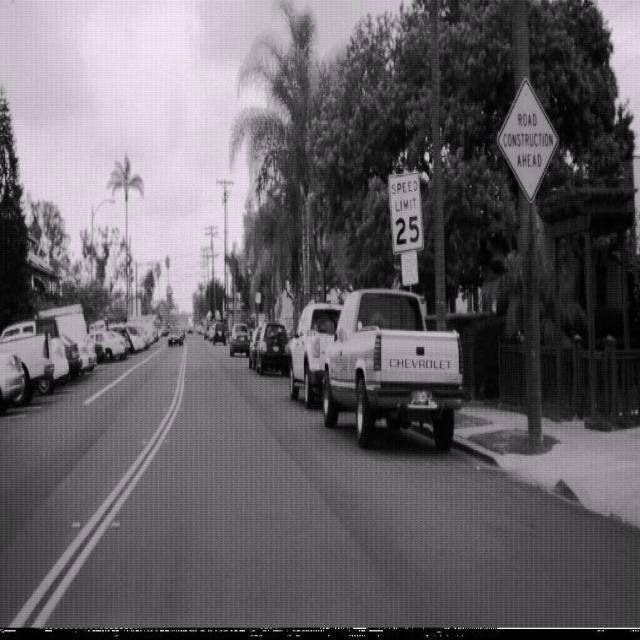speedLimit25: (387, 169, 424, 254)
